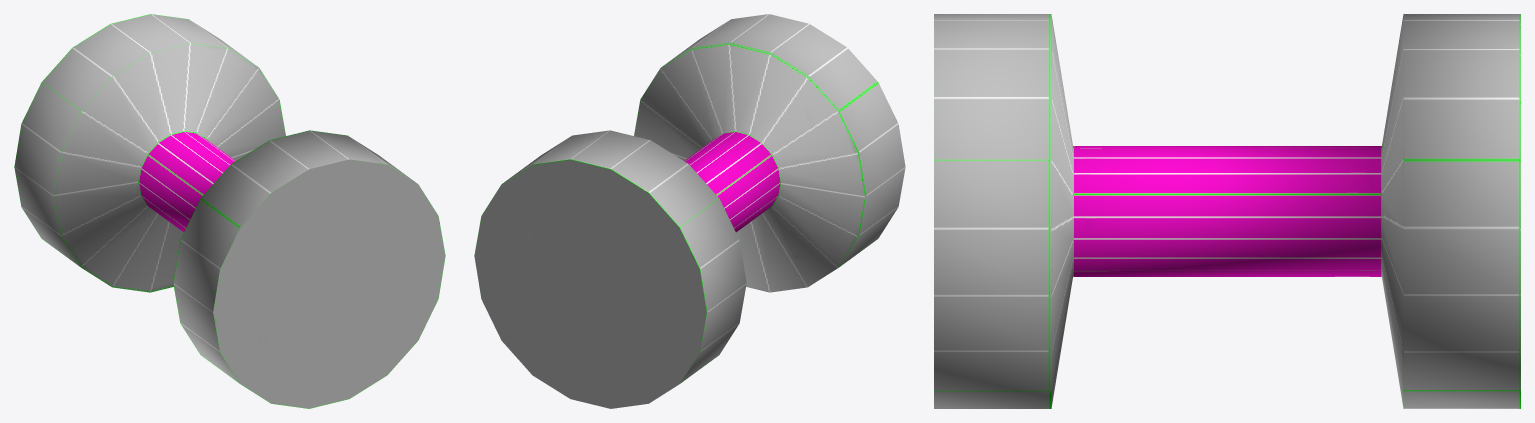
Rendered from weight.FBX.
The picture shows the model from 3 angles, left to right: view 1: azimuth 30°, elevation 25°; view 2: azimuth 150°, elevation 25°; view 3: azimuth 270°, elevation 25°; orthographic projection. The views are drawn at different scales.
Parts seen in each view (by area): view 1: Cylinder001; view 2: Cylinder001; view 3: Cylinder001.
Part boxes in pixels (bbox=[...]): Cylinder001: bbox=[14, 14, 445, 408]; Cylinder001: bbox=[474, 14, 905, 408]; Cylinder001: bbox=[934, 14, 1520, 408].
Size of the model in its own units: 22.95 by 22.6 by 33.95.
